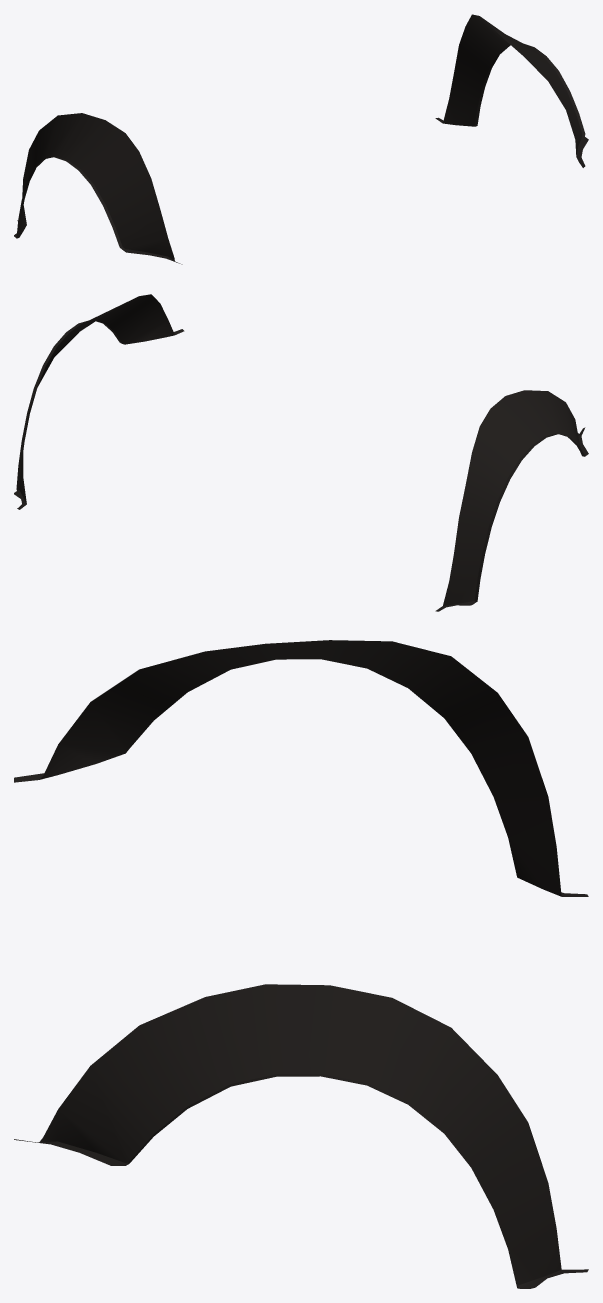
Rendered from RWB_FF_01_Trim.fbx.
The picture shows the model from 3 angles, top to bottom: view 1: azimuth 30°, elevation 25°; view 2: azimuth 150°, elevation 25°; view 3: azimuth 270°, elevation 25°; orthographic projection. The views are drawn at different scales.
Visible parts, largest first — view 1: RWB_FF_01_Trim; view 2: RWB_FF_01_Trim; view 3: RWB_FF_01_Trim.
Boxes of the visible parts, box(x1,y1,x2,y2) form: RWB_FF_01_Trim: box(14, 14, 588, 264); RWB_FF_01_Trim: box(14, 294, 588, 611); RWB_FF_01_Trim: box(14, 640, 588, 1288).
Size of the model in its own units: 168 by 50.63 by 97.51.
